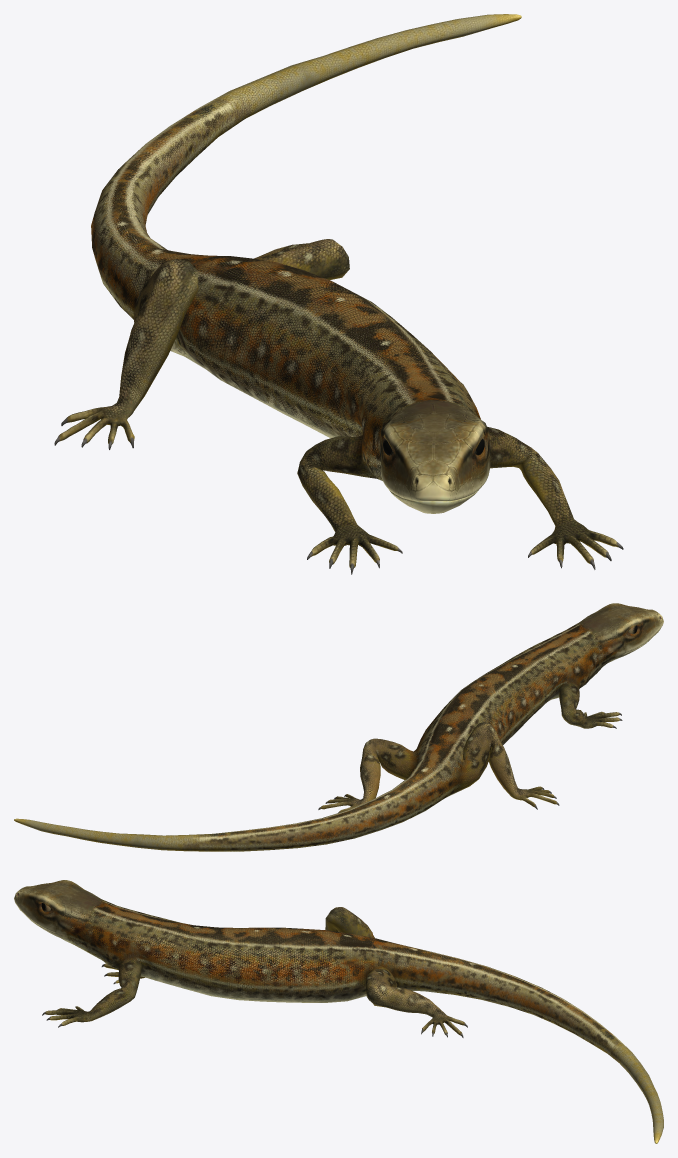
Rendered from Running510.obj.
The picture shows the model from 3 angles, top to bottom: view 1: azimuth 30°, elevation 25°; view 2: azimuth 150°, elevation 25°; view 3: azimuth 270°, elevation 25°; orthographic projection. The views are drawn at different scales.
Parts seen in each view (by area): view 1: Lizard; view 2: Lizard; view 3: Lizard.
Boxes of the visible parts, x1=… form: Lizard: x1=54, y1=14, x2=623, y2=574; Lizard: x1=14, y1=603, x2=663, y2=851; Lizard: x1=14, y1=880, x2=663, y2=1143.
Bounding box in the file's own units: 55.93 × 12.04 × 76.29.
